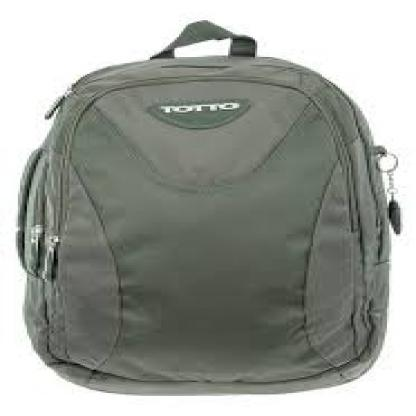morral: (7, 6, 405, 405)
